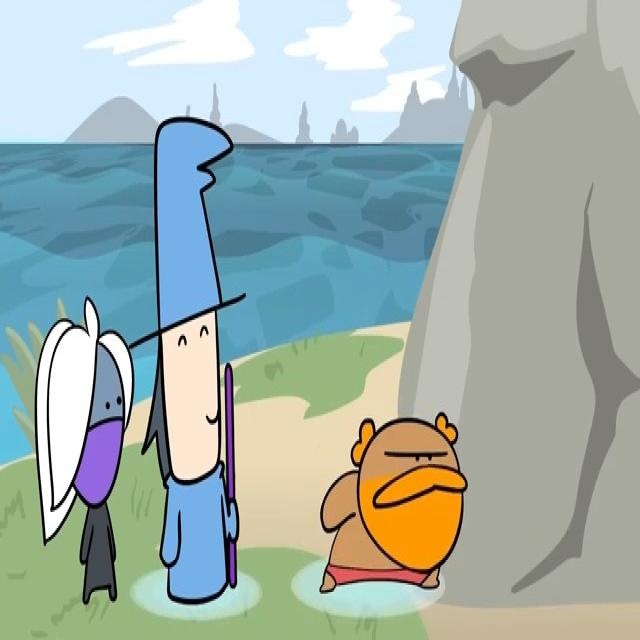Haagen-Daz: (319, 411, 468, 593)
Josh: (129, 116, 246, 606)
miss Demeanor: (34, 296, 135, 606)
